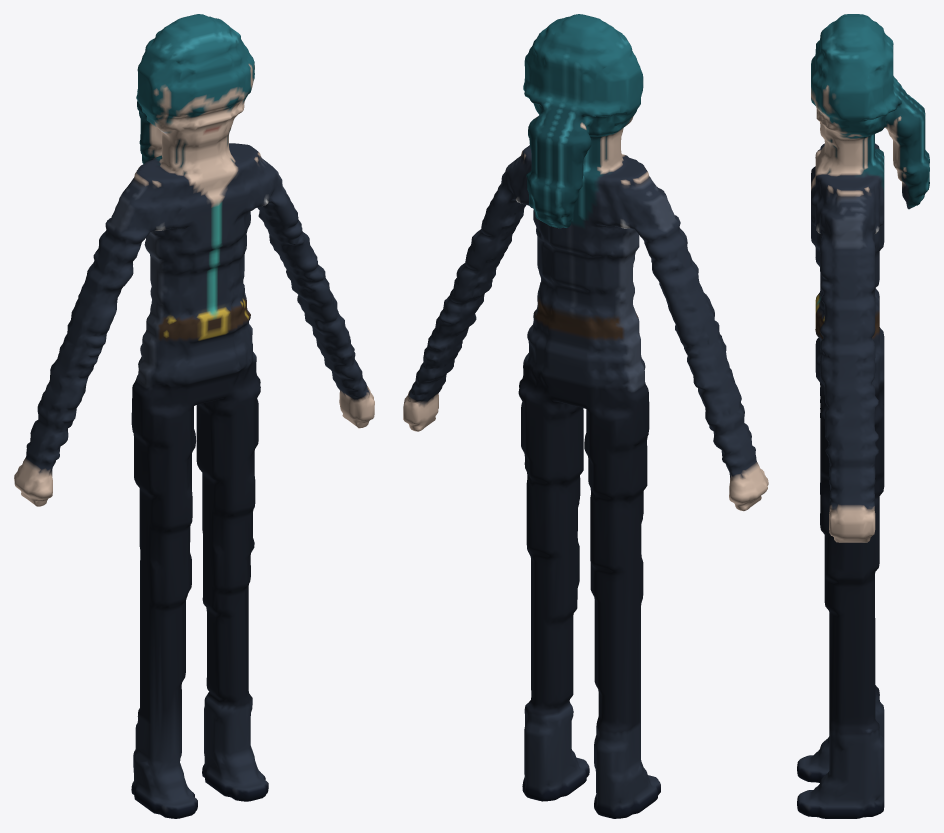
Rendered from aria.glb.
The picture shows the model from 3 angles, left to right: view 1: azimuth 30°, elevation 25°; view 2: azimuth 150°, elevation 25°; view 3: azimuth 270°, elevation 25°; orthographic projection.
Visible parts, largest first — view 1: cand-1-blockout; view 2: cand-1-blockout; view 3: cand-1-blockout.
Part boxes in pixels (<box>): cand-1-blockout: <box>14,14,374,818</box>; cand-1-blockout: <box>403,14,768,818</box>; cand-1-blockout: <box>797,14,929,818</box>.
Size of the model in its own units: 0.785 by 1.65 by 0.2573.
